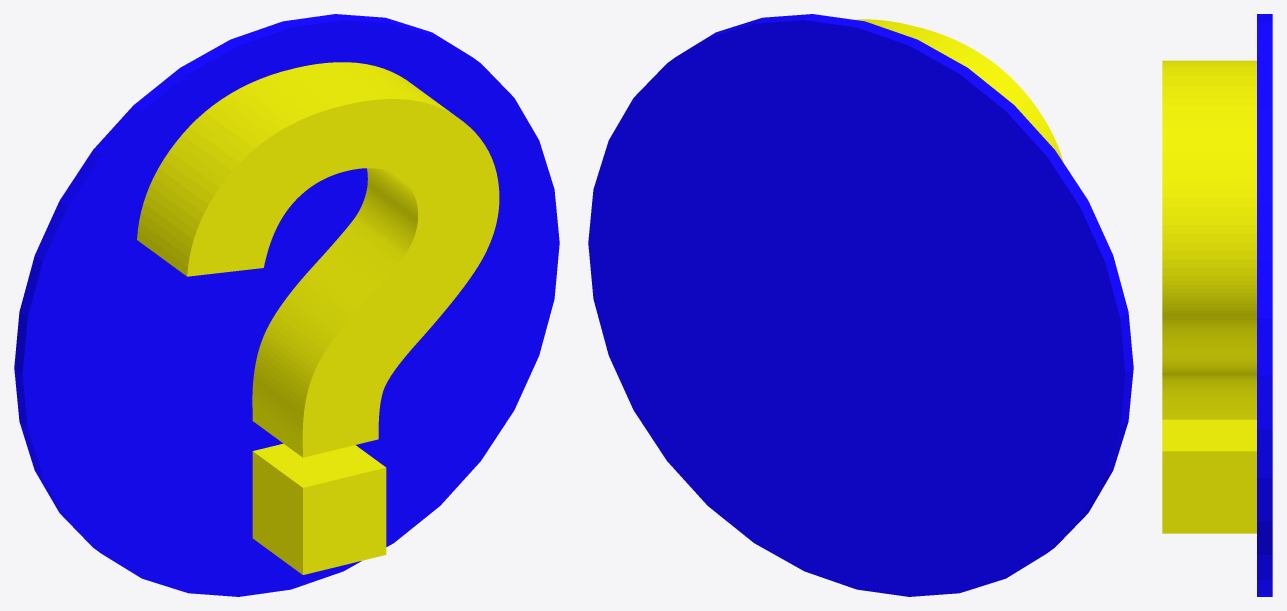
File: infoicon.glb
3 views of the same model, side by side, from view 1: azimuth 30°, elevation 25°; view 2: azimuth 150°, elevation 25°; view 3: azimuth 270°, elevation 25° (orthographic). The views are drawn at different scales.
Parts seen in each view (by area): view 1: Circle, Text; view 2: Circle, Text; view 3: Text, Circle.
Boxes of the visible parts, x1,y1,x2,y2 form: Circle: [14, 14, 559, 596]; Text: [137, 62, 499, 574]; Circle: [588, 14, 1133, 596]; Text: [854, 19, 1063, 162]; Text: [1162, 60, 1256, 533]; Circle: [1257, 14, 1272, 596].
Size of the model in its own units: 0.0861 by 0.0861 by 0.0162.
